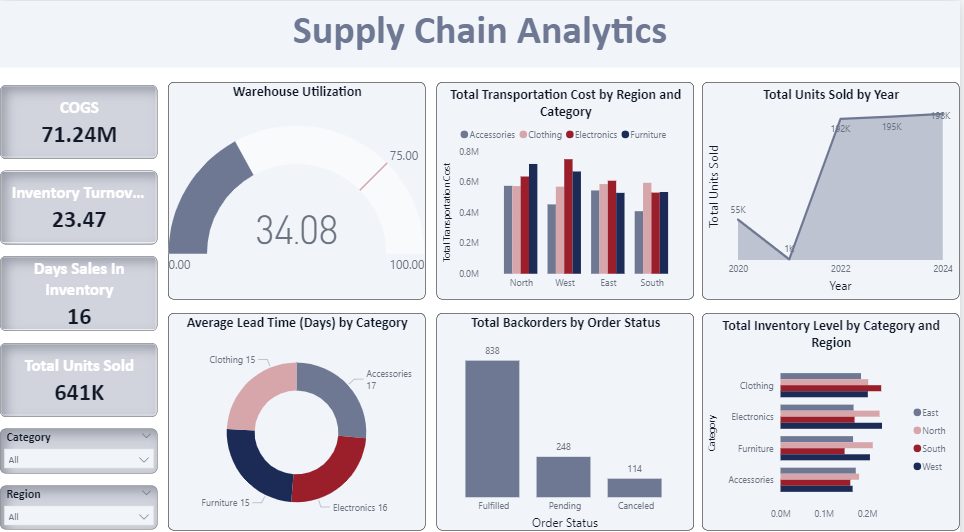

What the dashboard file says about the page in this screenshot:
{"tool":"powerbi","page":{"name":"Page 1","canvas":[1280,720],"ordinal":0},"visuals":[{"type":"textbox","box":[0,0,1280,88.3],"z":0},{"type":"cardVisual","fields":{"Data":["Sum(Data.Units Sold)"]},"box":[0,456.3,210,98.3],"z":1000},{"type":"cardVisual","fields":{"Data":["Data.Days Sales In Inventory"]},"box":[0,340.3,210,100],"z":2000},{"type":"cardVisual","fields":{"Data":["Data.Inventory Turnover Ratio"]},"box":[0,226,210,98.3],"z":3000},{"type":"slicer","fields":{"Values":["Data.Region"]},"box":[0,646.7,210,58.3],"z":4000},{"type":"slicer","fields":{"Values":["Data.Category"]},"box":[0,570.7,210,60],"z":5000},{"type":"gauge","fields":{"Y":["Data.Warehouse Utilization"]},"box":[223.3,108.3,343.3,290],"z":6000},{"type":"clusteredColumnChart","fields":{"Category":["Data.Region"],"Y":["Sum(Data.Transportation Cost)"],"Series":["Data.Category"]},"box":[581.7,108.3,343.3,290],"z":7000},{"type":"areaChart","fields":{"Category":["Data.Date.Variation.Date Hierarchy.Year"],"Y":["Sum(Data.Units Sold)"]},"box":[936.7,108.3,343.3,290],"z":8000},{"type":"donutChart","fields":{"Y":["Avg(Data.Lead Time (Days))"],"Category":["Data.Category"]},"box":[223.3,415,343.3,290],"z":9000},{"type":"columnChart","fields":{"Y":["CountNonNull(Data.Backorder)"],"Category":["Data.Order Status"]},"box":[581.7,415,343.3,290],"z":10000},{"type":"clusteredBarChart","fields":{"Category":["Data.Category"],"Y":["Sum(Data.Inventory Level)"],"Series":["Data.Region"]},"box":[936.7,415,343.3,290],"z":11000},{"type":"cardVisual","fields":{"Data":["Sum(Data.Cost of Goods Sold (COGS))"]},"box":[0,111.7,210,98.3],"z":12000}]}

Visuals, with their boxes in screenshot pixels (x1, y1, x2, y2), scaled from the page's 1280x720 canvas onto the 964x532 screenshot:
textbox: <region>0, 0, 963, 65</region>
cardVisual - Sum(Data.Units Sold): <region>0, 337, 158, 410</region>
cardVisual - Data.Days Sales In Inventory: <region>0, 251, 158, 325</region>
cardVisual - Data.Inventory Turnover Ratio: <region>0, 167, 158, 240</region>
slicer - Data.Region: <region>0, 478, 158, 521</region>
slicer - Data.Category: <region>0, 422, 158, 466</region>
gauge - Data.Warehouse Utilization: <region>168, 80, 427, 294</region>
clusteredColumnChart - Data.Region x Sum(Data.Transportation Cost): <region>438, 80, 697, 294</region>
areaChart - Data.Date.Variation.Date Hierarchy.Year x Sum(Data.Units Sold): <region>705, 80, 963, 294</region>
donutChart - Avg(Data.Lead Time (Days)) x Data.Category: <region>168, 307, 427, 521</region>
columnChart - CountNonNull(Data.Backorder) x Data.Order Status: <region>438, 307, 697, 521</region>
clusteredBarChart - Data.Category x Sum(Data.Inventory Level): <region>705, 307, 963, 521</region>
cardVisual - Sum(Data.Cost of Goods Sold (COGS)): <region>0, 83, 158, 155</region>
